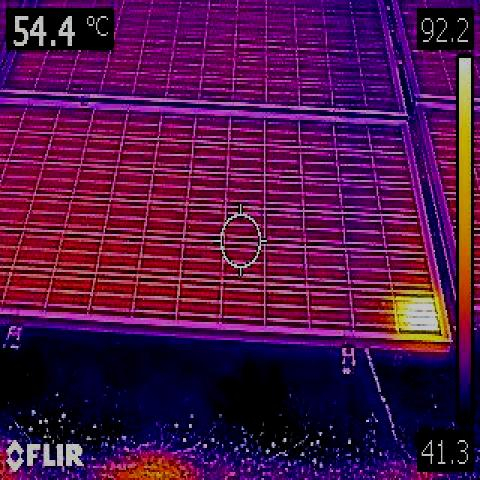fault: (395, 297, 439, 331)
